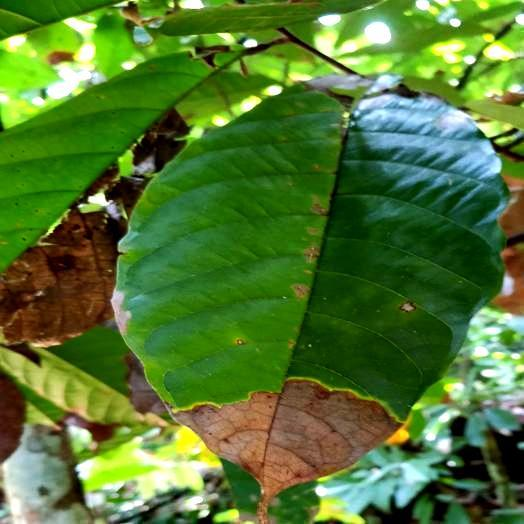Potassium: (115, 84, 505, 496)
